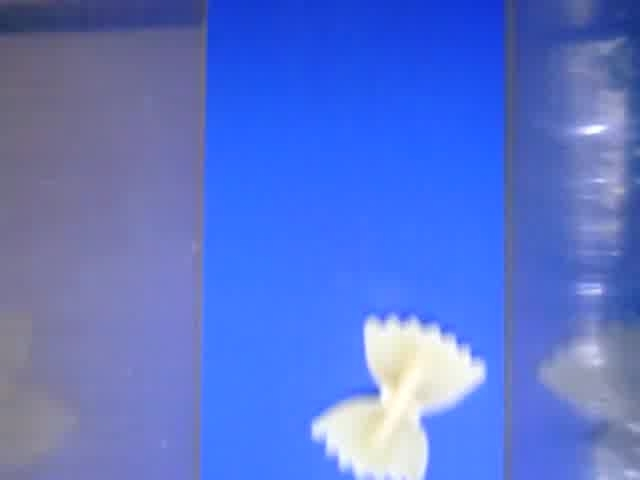farfalle: (311, 314, 488, 480)
